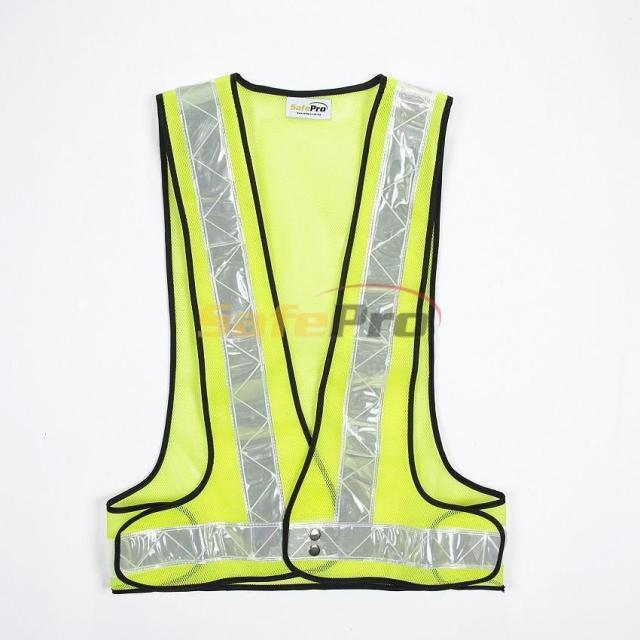Vest: (106, 64, 508, 599)
